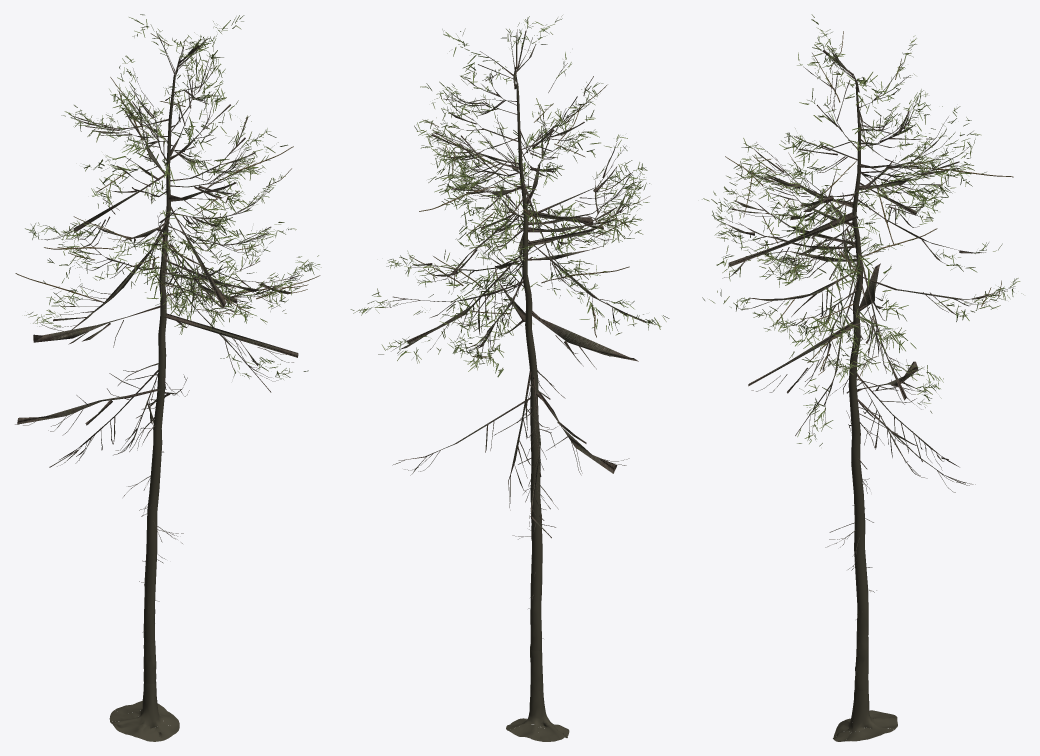
The model's file is fir_tree_01_c.glb.
The picture shows the model from 3 angles, left to right: view 1: azimuth 30°, elevation 25°; view 2: azimuth 150°, elevation 25°; view 3: azimuth 270°, elevation 25°; orthographic projection. The views are drawn at different scales.
Parts seen in each view (by area): view 1: fir_tree_01_c_LOD0.002, fir_tree_01_c_LOD0.001, fir_tree_01_c_LOD0; view 2: fir_tree_01_c_LOD0.002, fir_tree_01_c_LOD0.001, fir_tree_01_c_LOD0; view 3: fir_tree_01_c_LOD0.002, fir_tree_01_c_LOD0.001, fir_tree_01_c_LOD0.
Part boxes in pixels (x1,y1,x2,y2): fir_tree_01_c_LOD0.002: (15, 14, 321, 379); fir_tree_01_c_LOD0.001: (15, 31, 302, 467); fir_tree_01_c_LOD0: (109, 75, 179, 741); fir_tree_01_c_LOD0.002: (350, 15, 669, 377); fir_tree_01_c_LOD0.001: (380, 29, 655, 538); fir_tree_01_c_LOD0: (506, 83, 569, 741); fir_tree_01_c_LOD0.002: (702, 14, 1023, 446); fir_tree_01_c_LOD0.001: (722, 46, 1013, 492); fir_tree_01_c_LOD0: (833, 87, 897, 741).
Size of the model in its own units: 6.24 by 14.55 by 5.97.
Materials: 4 (4 with a texture image).
